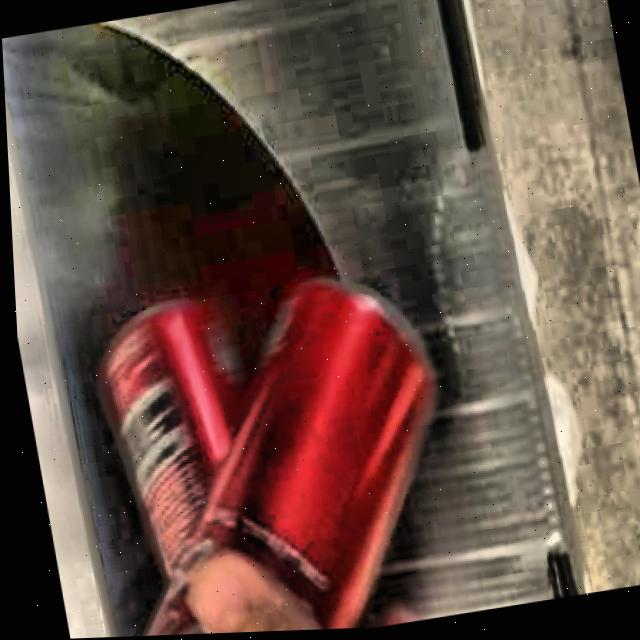metal: (97, 283, 428, 637)
